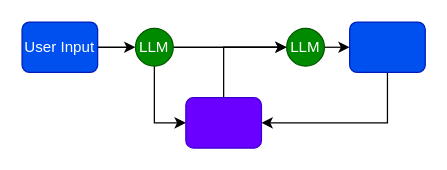
Image size: 447x170. Some labels were removed from this diagram. The shapes that lost their labels are listed below. From the top down, each one's centre as x and y in pixels, then its label:
At [386,46]: "Response".
At [223,122]: "Entity store".
